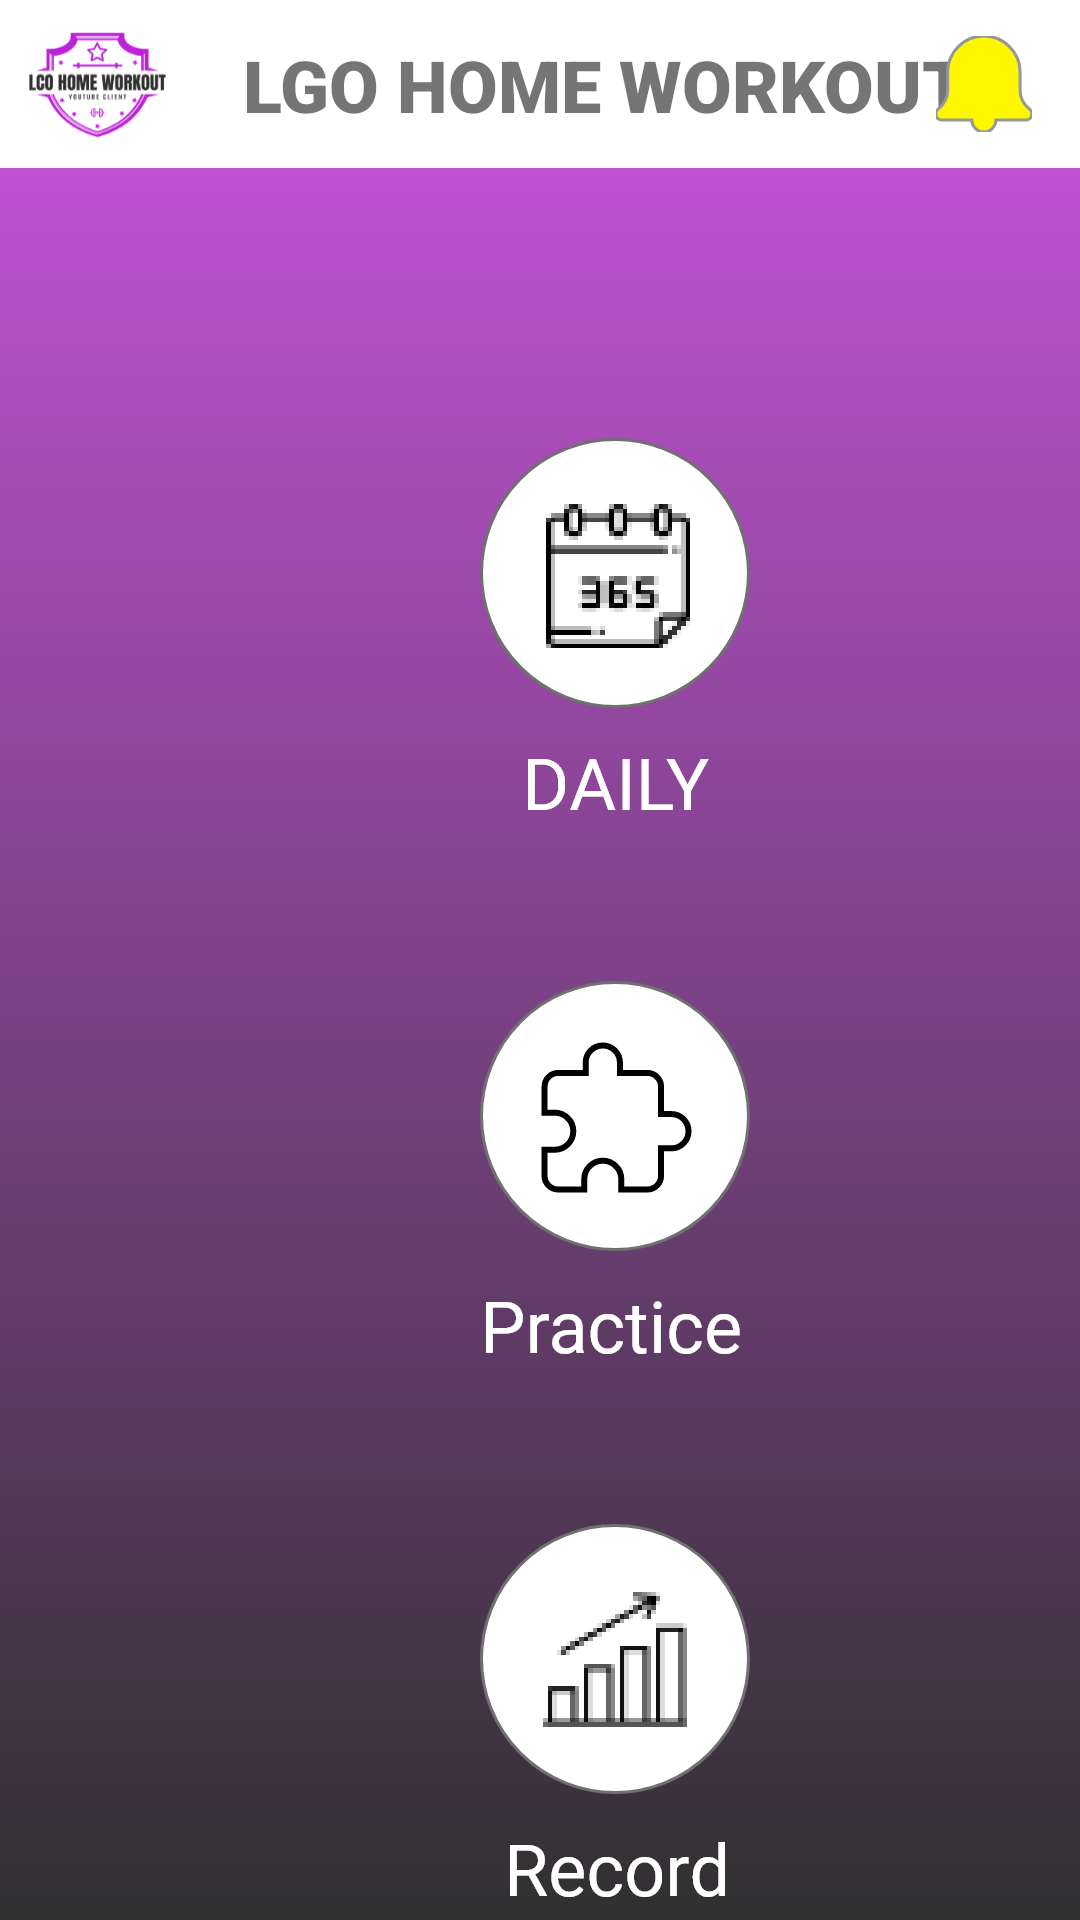

Icon bounding boxes for this 1080 × 1920 phone screenshot, format {"left": x1, "top": y1, "right": x2, "bottom": y2}:
bell: {"left": 936, "top": 36, "right": 1032, "bottom": 132}
